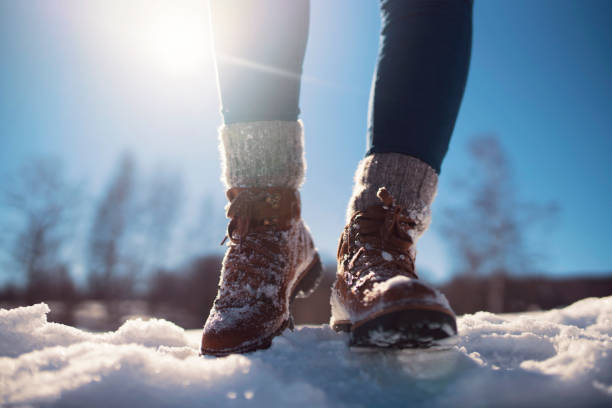Footwear: (187, 117, 323, 362)
